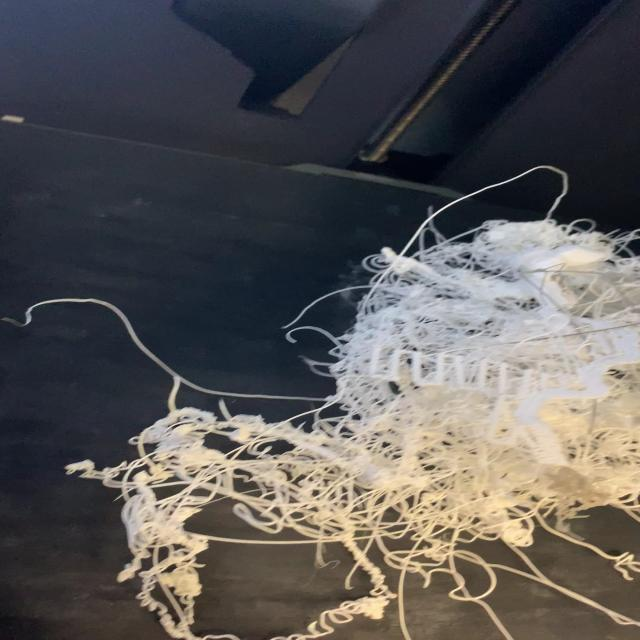spaghetti: (5, 163, 637, 638)
